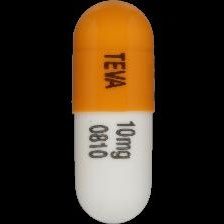0093-0810: (0, 0, 224, 224)
